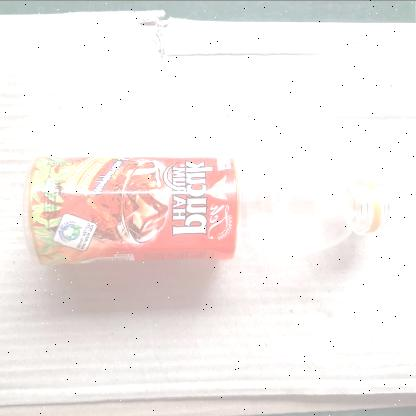Plastic Bottle: (22, 154, 400, 264)
